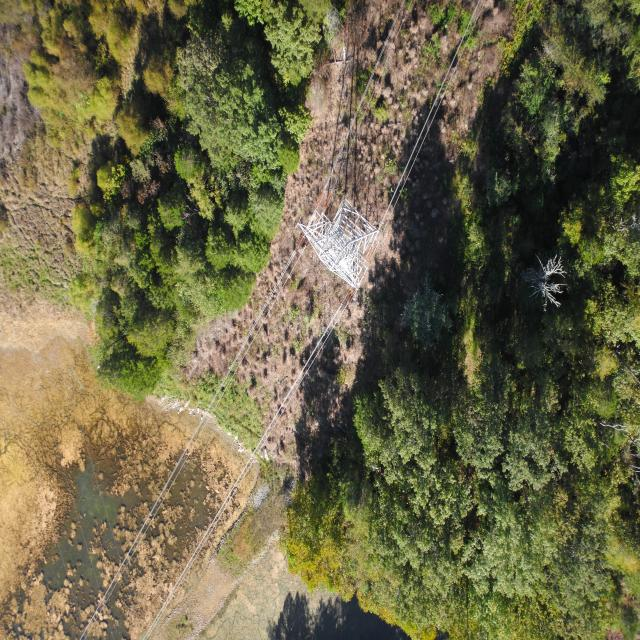Area of Interest: (288, 17, 639, 627), (16, 9, 333, 384)
